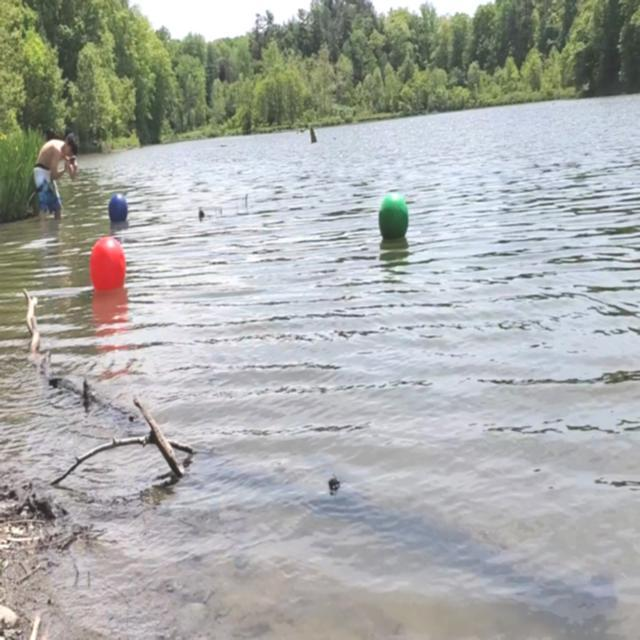buoy: (87, 232, 127, 302), (378, 190, 412, 243), (107, 191, 129, 224)
